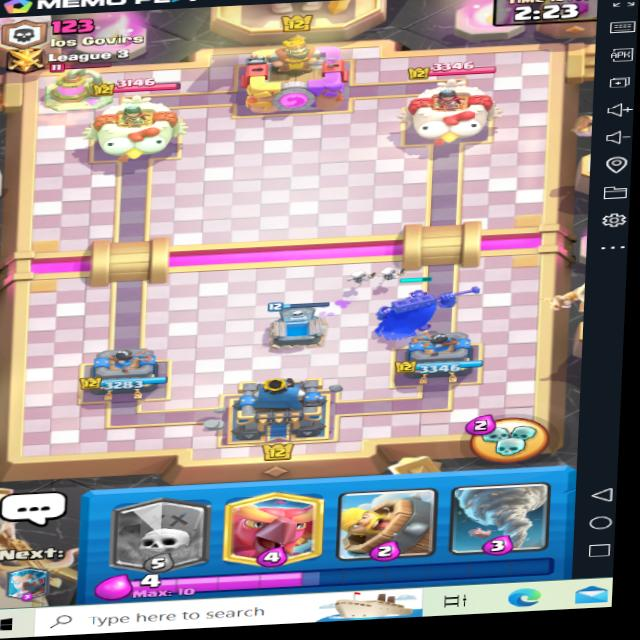elixir-collector: (38, 58, 108, 115)
